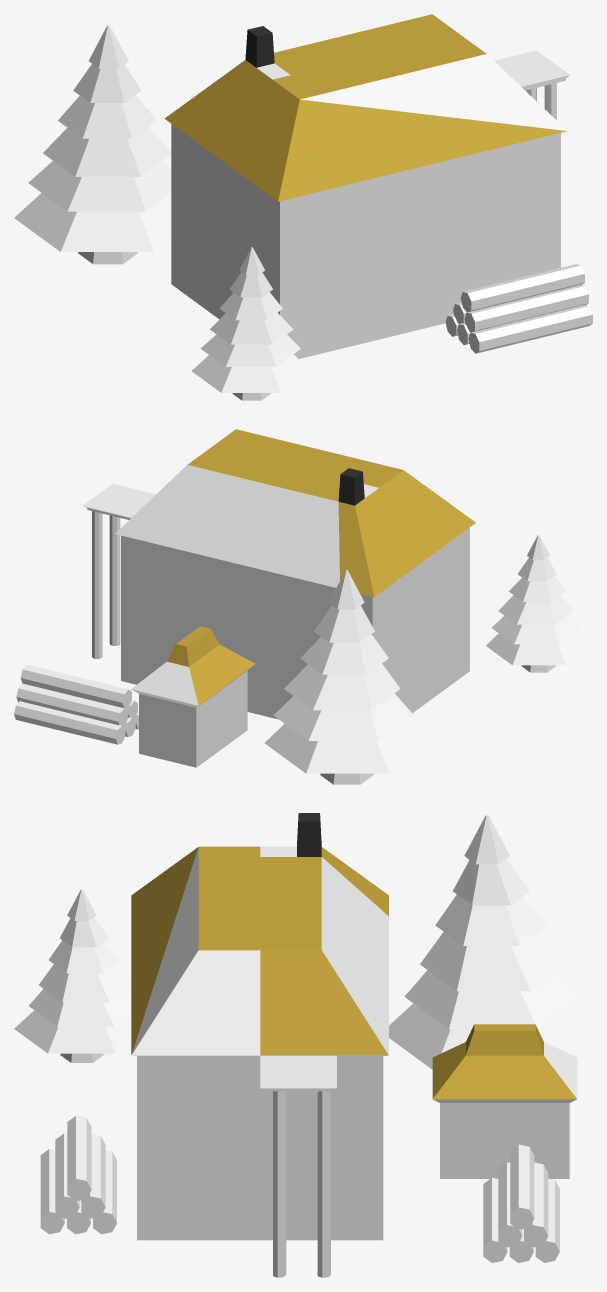
Rendered from lumber2.glb.
3 renders of one model, top to bottom at view 1: azimuth 30°, elevation 25°; view 2: azimuth 150°, elevation 25°; view 3: azimuth 270°, elevation 25°, orthographic. The views are drawn at different scales.
Visible parts, largest first — view 1: Cylinder.002; view 2: Cylinder.002; view 3: Cylinder.002.
Boxes of the visible parts, left/top/right/bottom form: Cylinder.002: left=14, top=14, right=592, bottom=400; Cylinder.002: left=14, top=429, right=592, bottom=784; Cylinder.002: left=14, top=813, right=592, bottom=1277.
Bounding box in the file's own units: 17.99 × 10.42 × 17.98.
